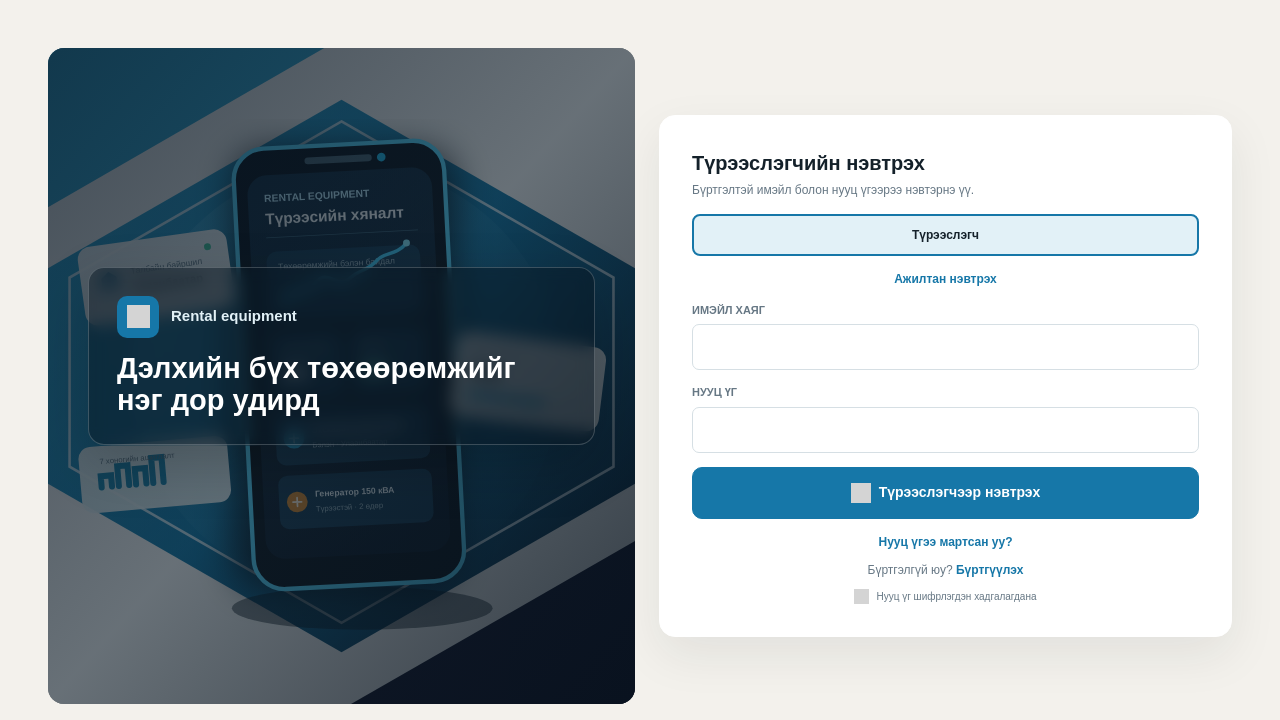
Test case: MobileLogin › shows login failures and re-enables submit
The image size is (1280, 720).
Click the button "Ажилтан нэвтрэх".
click(946, 279)  # box x1=894 y1=270 x2=997 y2=288
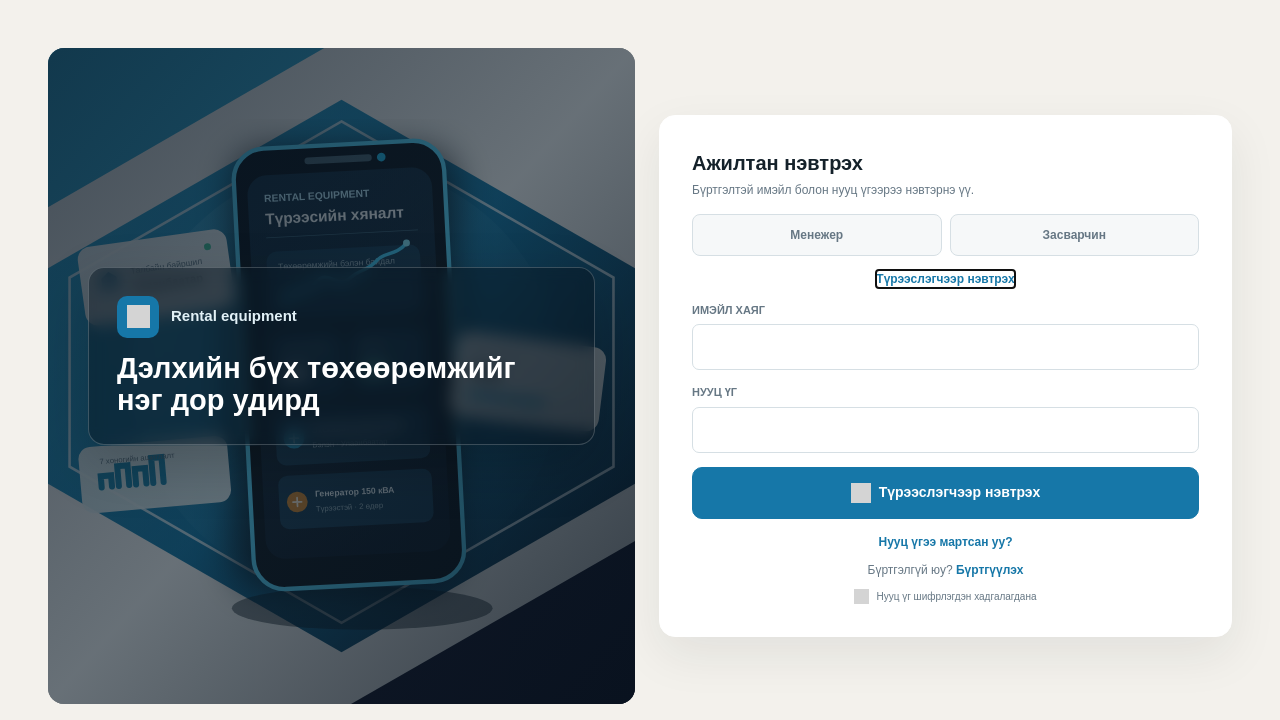
Click the button with aria-label "Менежер Тайлан".
click(817, 235)  # box x1=692 y1=214 x2=942 y2=256
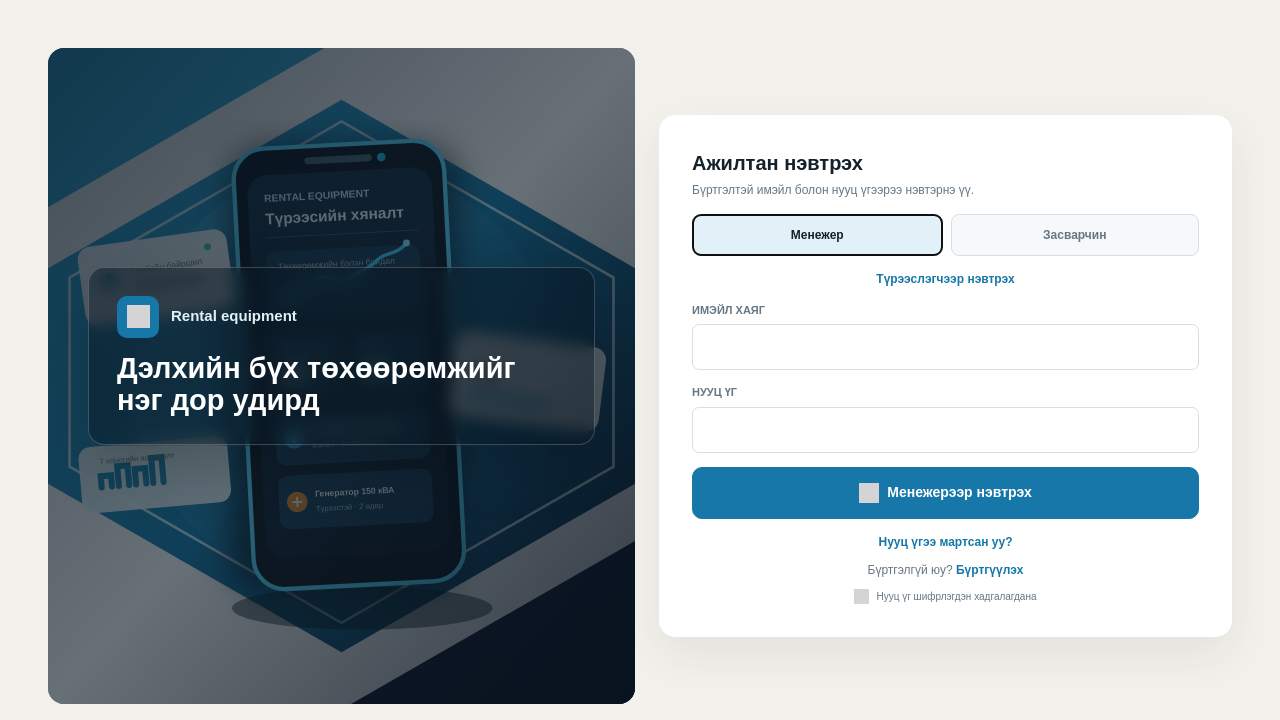
Type "test@example.com" into the field labelled "ИМЭЙЛ ХАЯГ".
click(946, 347); type("test@example.com")  # box x1=692 y1=324 x2=1199 y2=370
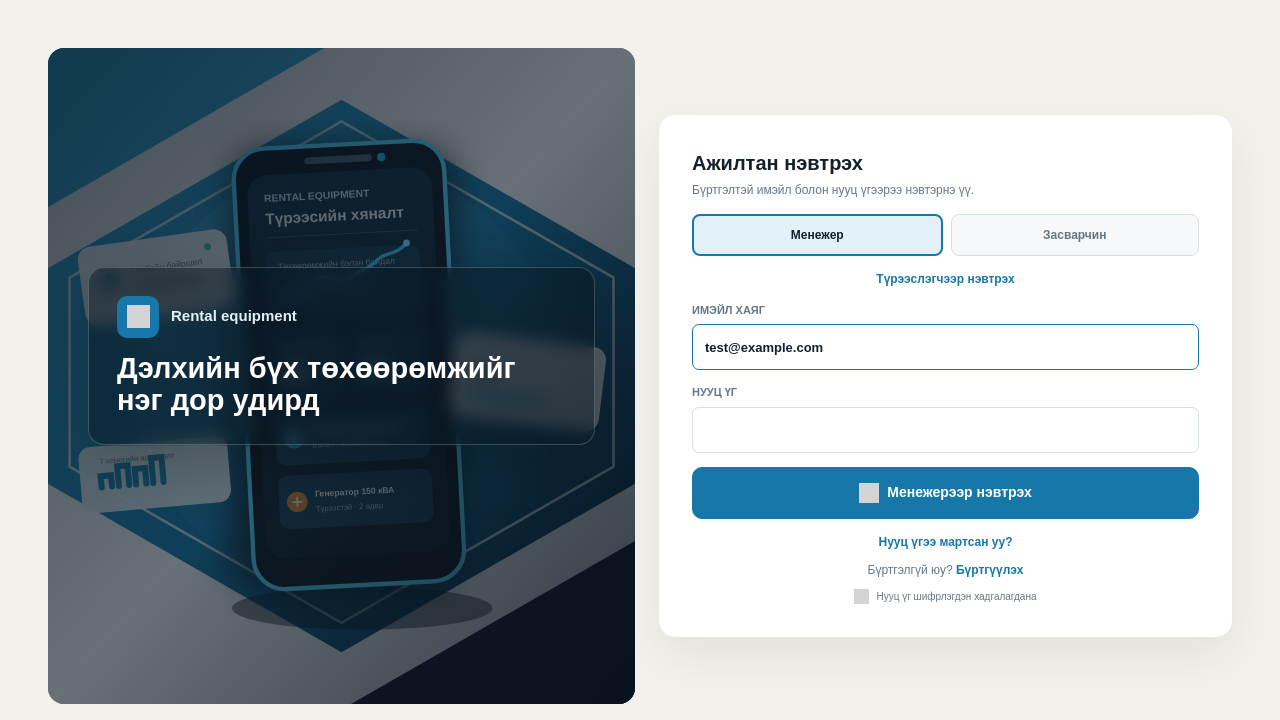
Type "wrong-password" into the password field labelled "НУУЦ ҮГ".
click(946, 430); type("wrong-password")  # box x1=692 y1=407 x2=1199 y2=453
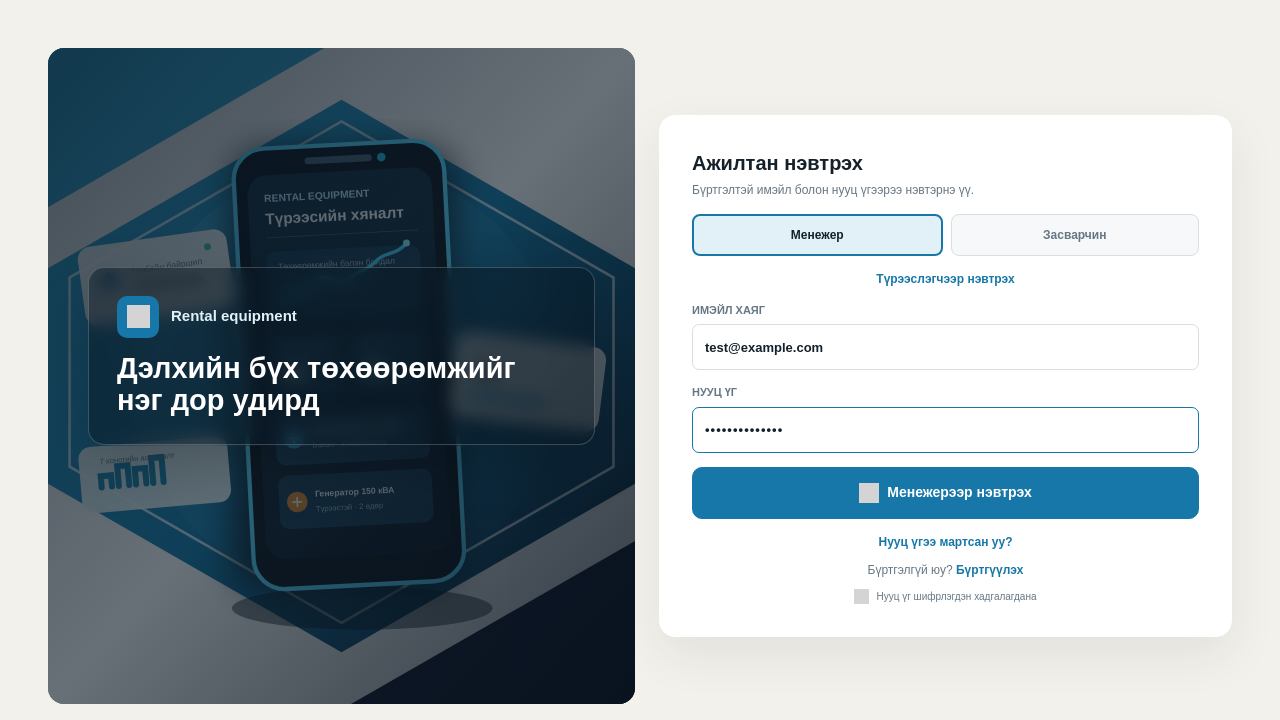
Click the button "Менежерээр нэвтрэх".
click(946, 493)  # box x1=692 y1=467 x2=1199 y2=519
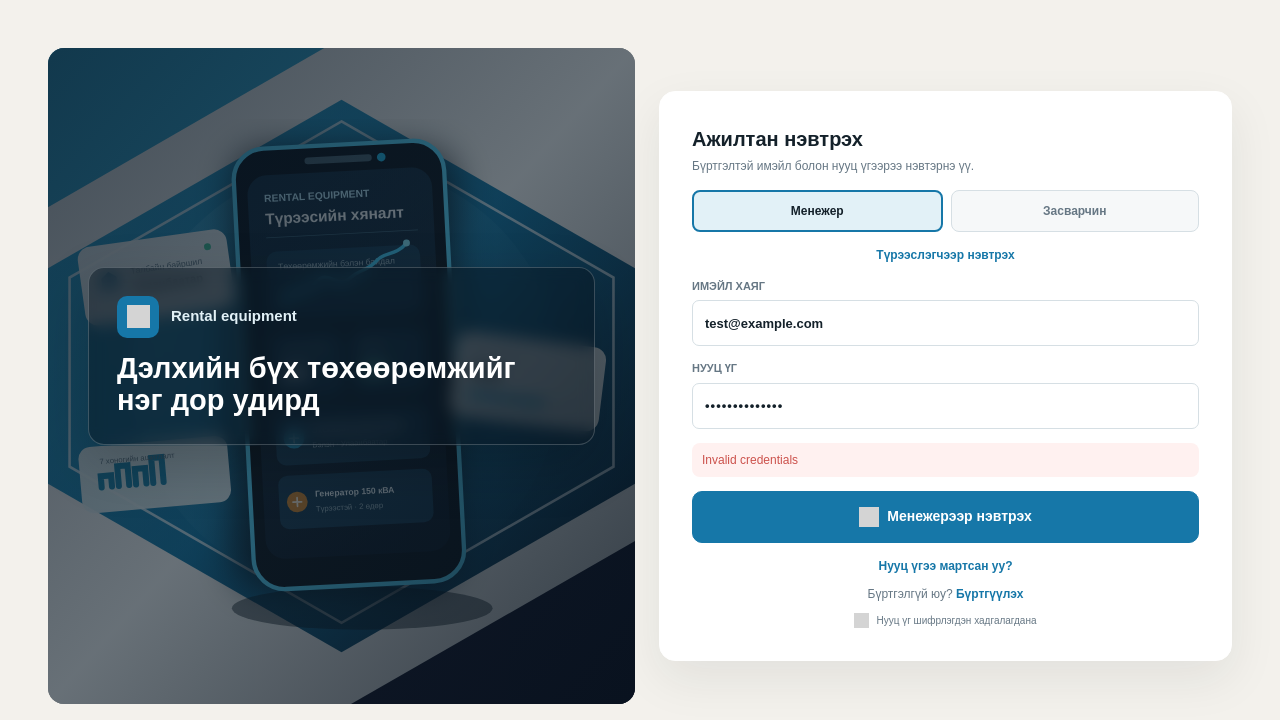
Expected: the button "Менежерээр нэвтрэх" is enabled, x1=692 y1=491 x2=1199 y2=543
Expected: the text "Invalid credentials" is shown, x1=692 y1=443 x2=1199 y2=477
